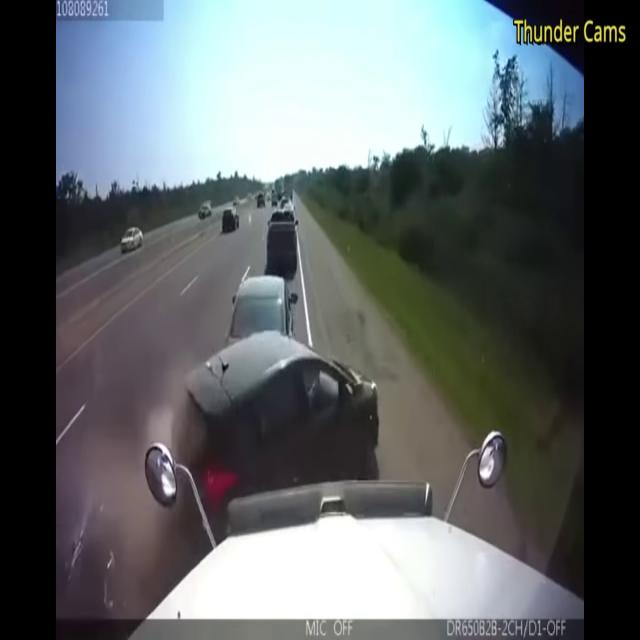accident: (159, 258, 408, 488)
